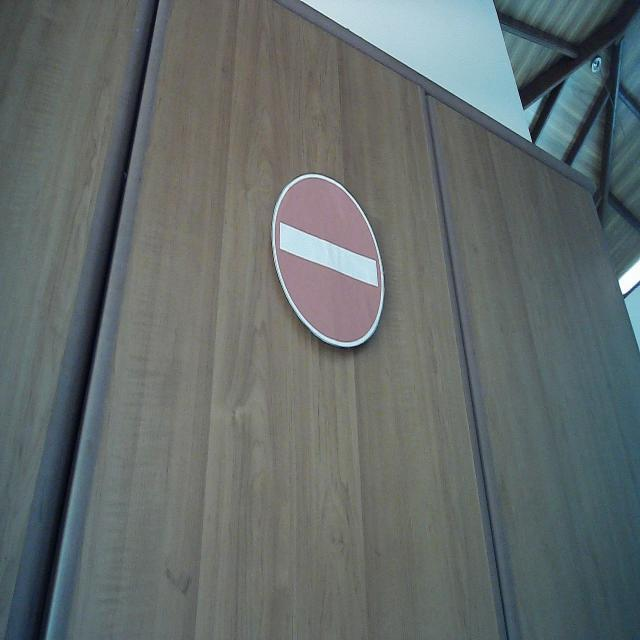no_entry: (269, 170, 386, 351)
